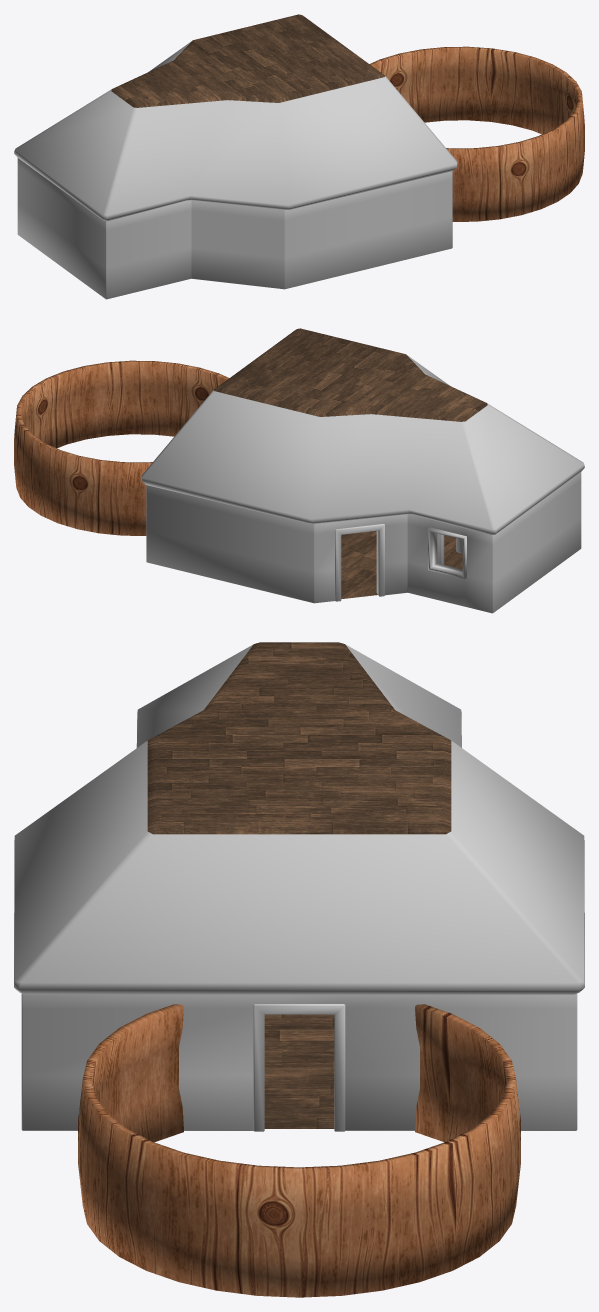
Rendered from GreenHouse.fbx.
The picture shows the model from 3 angles, top to bottom: view 1: azimuth 30°, elevation 25°; view 2: azimuth 150°, elevation 25°; view 3: azimuth 270°, elevation 25°; orthographic projection. The views are drawn at different scales.
Visible parts, largest first — view 1: GreenHouse; view 2: GreenHouse; view 3: GreenHouse.
Part boxes in pixels (box(x1,y1,x2,y2)): GreenHouse: box(14, 14, 584, 299); GreenHouse: box(14, 328, 584, 613); GreenHouse: box(14, 642, 584, 1297).
Size of the model in its own units: 18.64 by 5.42 by 10.21.
